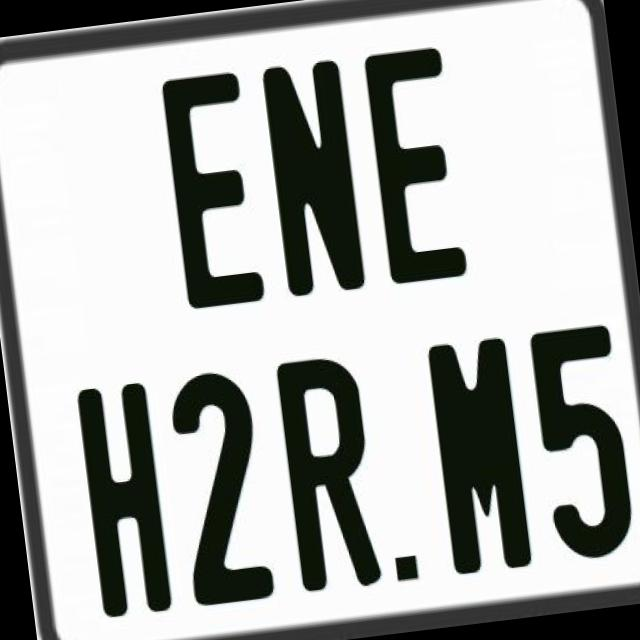2: (163, 366, 275, 608)
5: (528, 325, 638, 568)
E: (359, 43, 472, 284), (160, 72, 268, 318)
H: (74, 378, 175, 614)
M: (424, 338, 530, 584)
N: (260, 60, 369, 302)
R: (273, 351, 387, 598)
